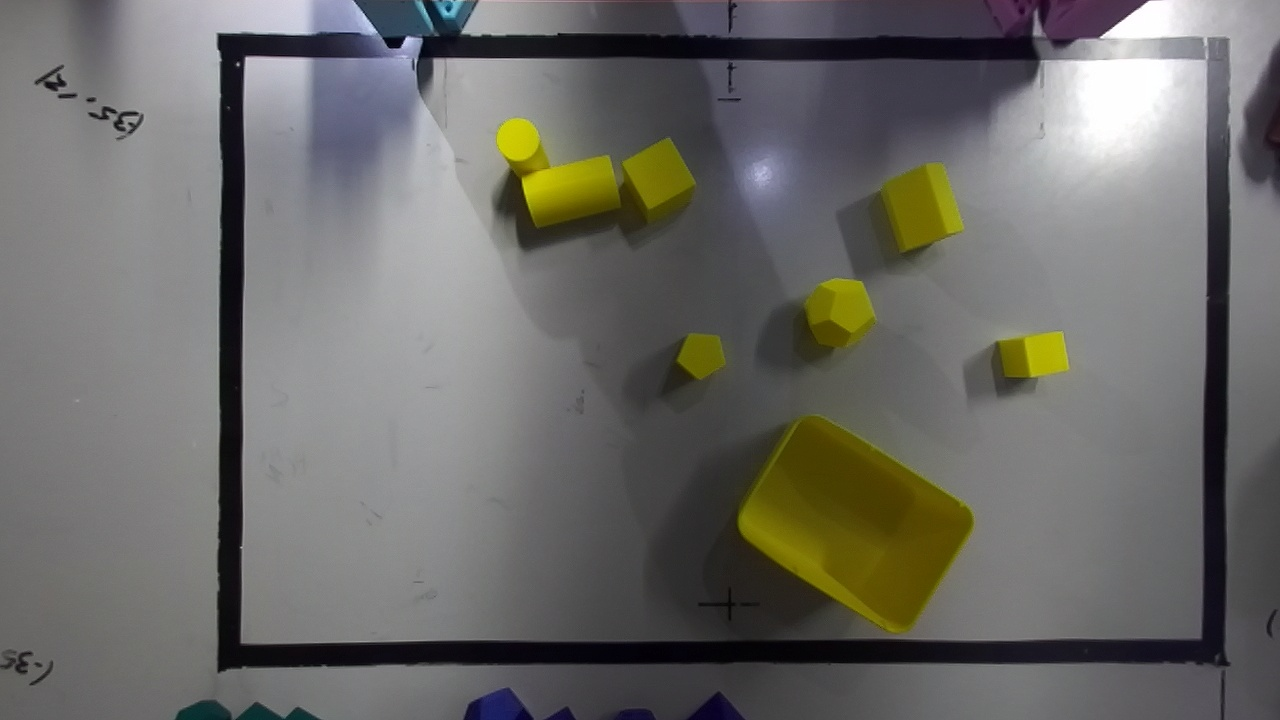bin: (738, 416, 973, 632)
cube: (622, 137, 695, 222), (997, 331, 1068, 377)
cylinder: (521, 155, 620, 226), (496, 118, 548, 175)
dodecahedron: (804, 278, 875, 347)
hexagonal: (880, 163, 963, 252), (676, 333, 725, 378)
